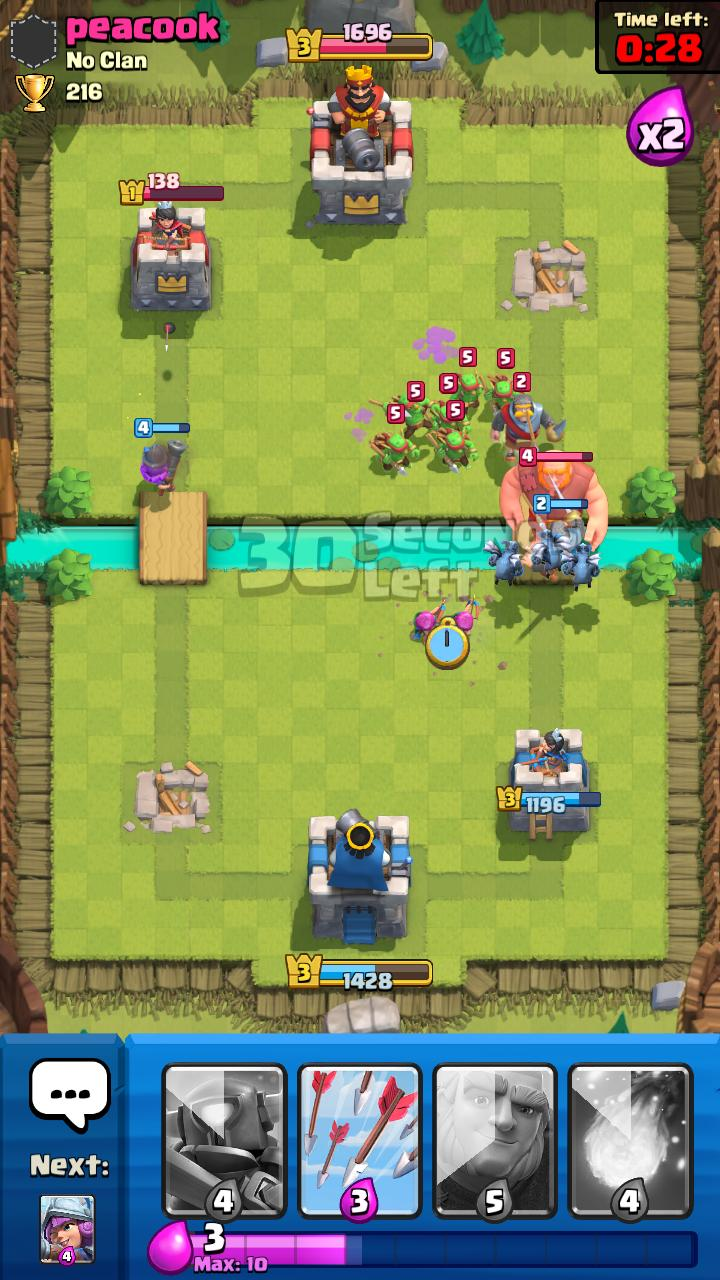ally: (521, 494, 588, 581), (134, 418, 190, 496), (561, 543, 603, 592), (531, 529, 572, 579), (482, 539, 524, 586), (413, 599, 446, 645), (452, 594, 479, 635)
enemy: (500, 447, 608, 552), (490, 372, 567, 462), (368, 381, 440, 439), (425, 400, 479, 474), (368, 404, 420, 475), (478, 348, 525, 417), (420, 373, 472, 434), (449, 347, 483, 417)
